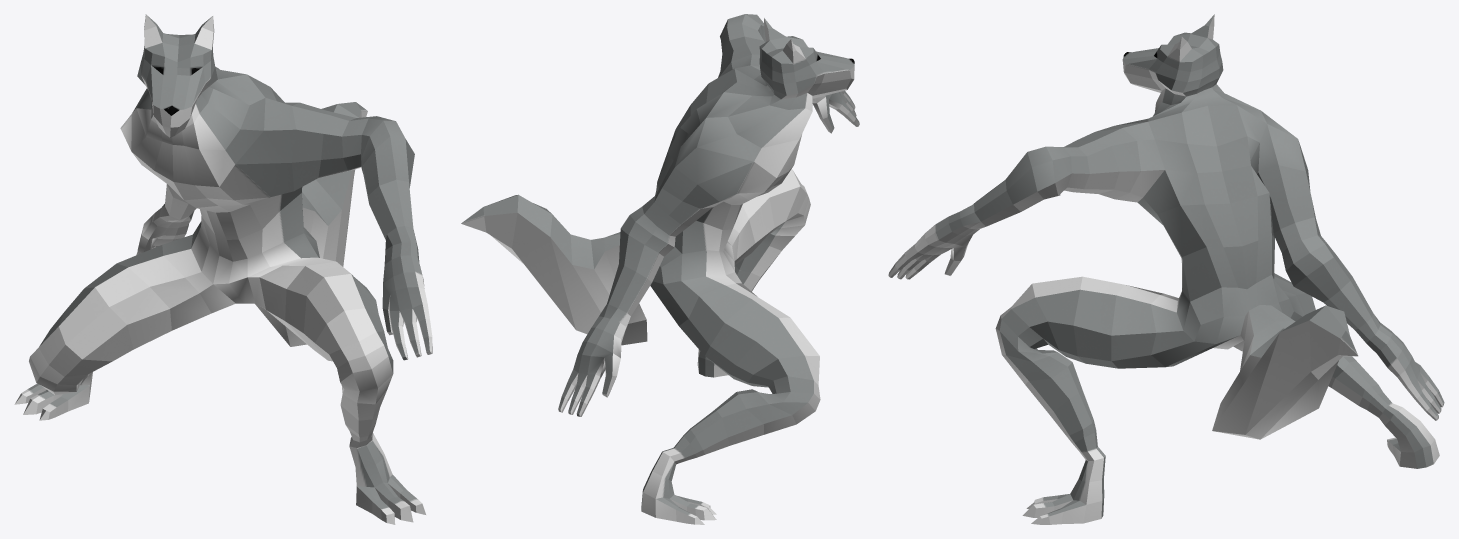
File: WolfAttack(27).obj
The picture shows the model from 3 angles, left to right: view 1: azimuth 30°, elevation 25°; view 2: azimuth 150°, elevation 25°; view 3: azimuth 270°, elevation 25°; orthographic projection. The views are drawn at different scales.
Parts seen in each view (by area): view 1: Box001; view 2: Box001; view 3: Box001.
Boxes of the visible parts, x1,y1,x2,y2 form: Box001: (14, 14, 432, 524); Box001: (461, 14, 859, 524); Box001: (888, 14, 1444, 524).
Size of the model in its own units: 94.18 by 115 by 134.
